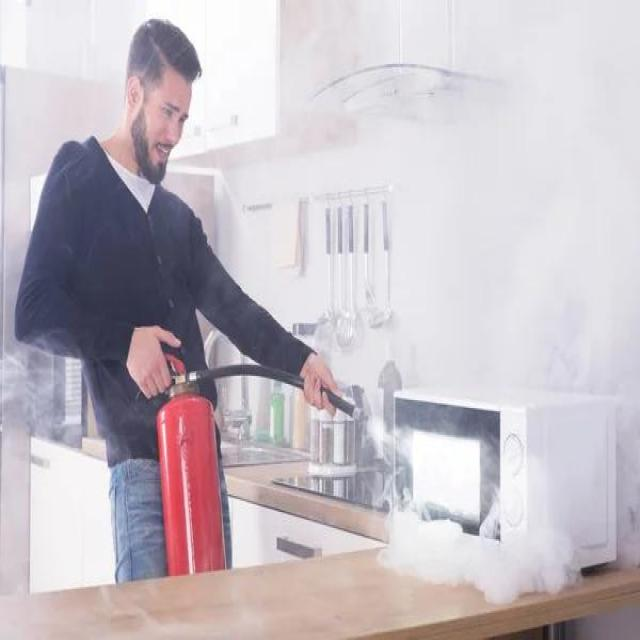fire_extinguisher: (134, 346, 364, 638)
